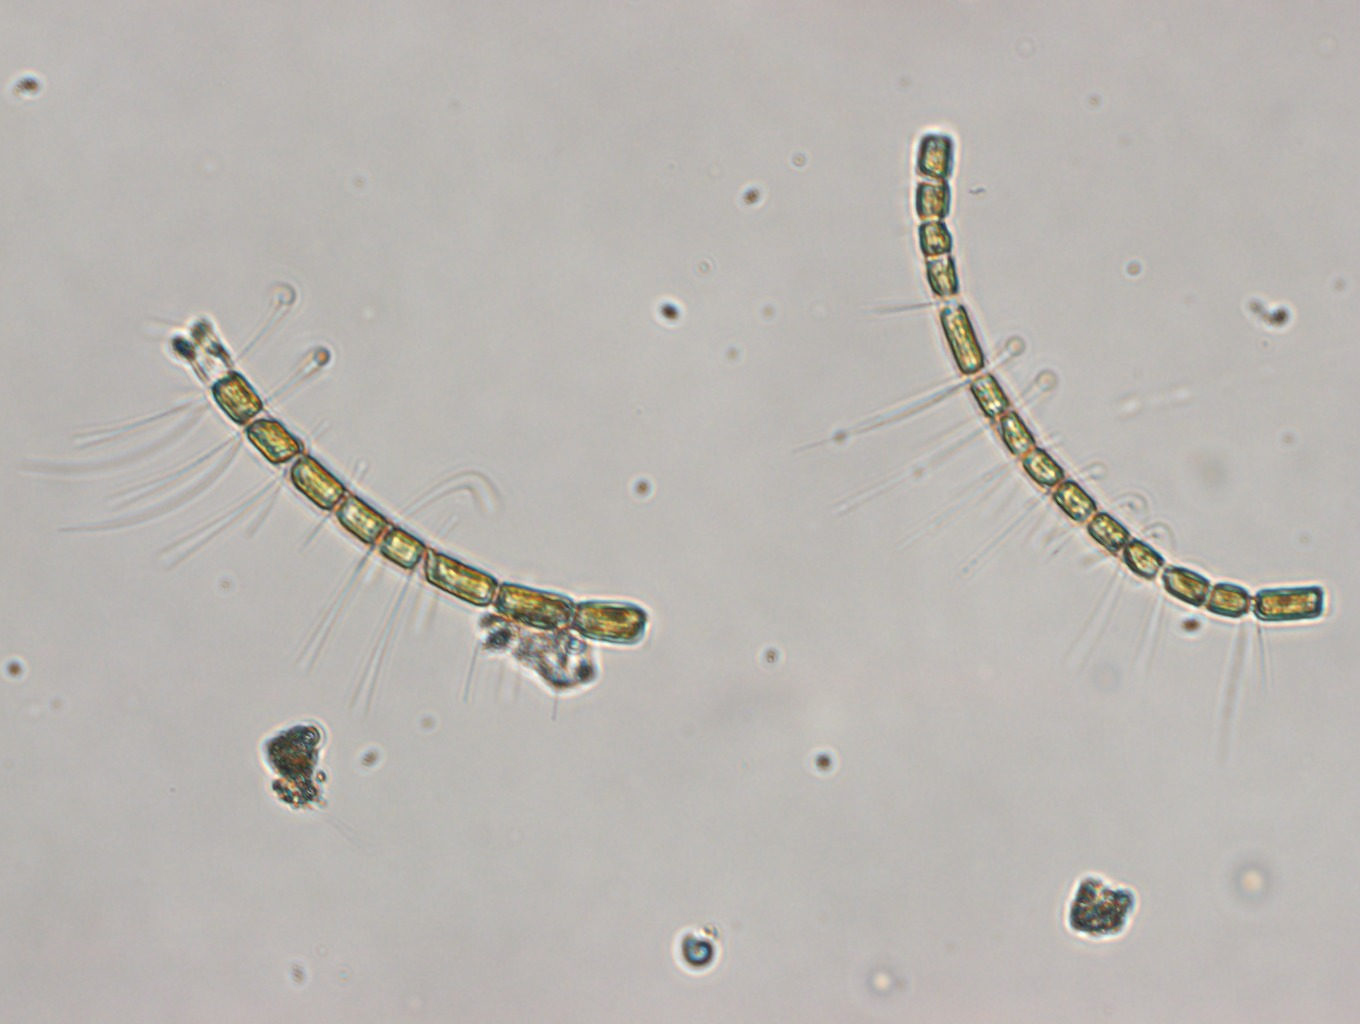chaetoceros: (792, 131, 1325, 767), (19, 288, 646, 730)
